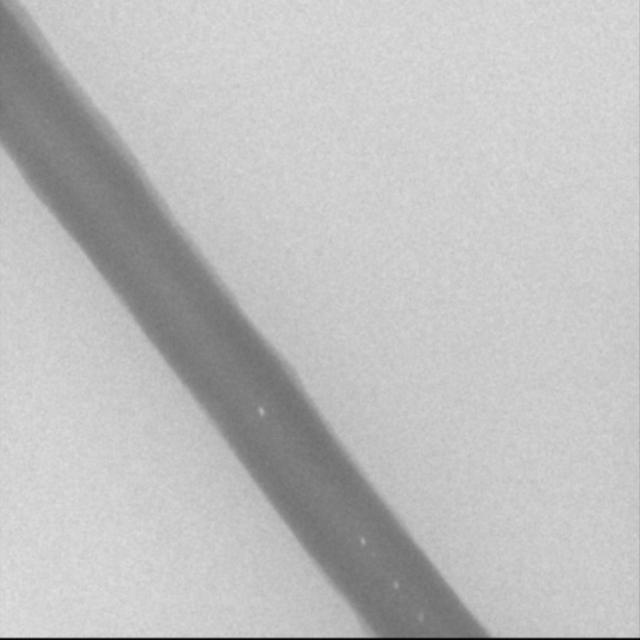air hole: (257, 406, 265, 418), (392, 579, 400, 591), (359, 536, 367, 546)
